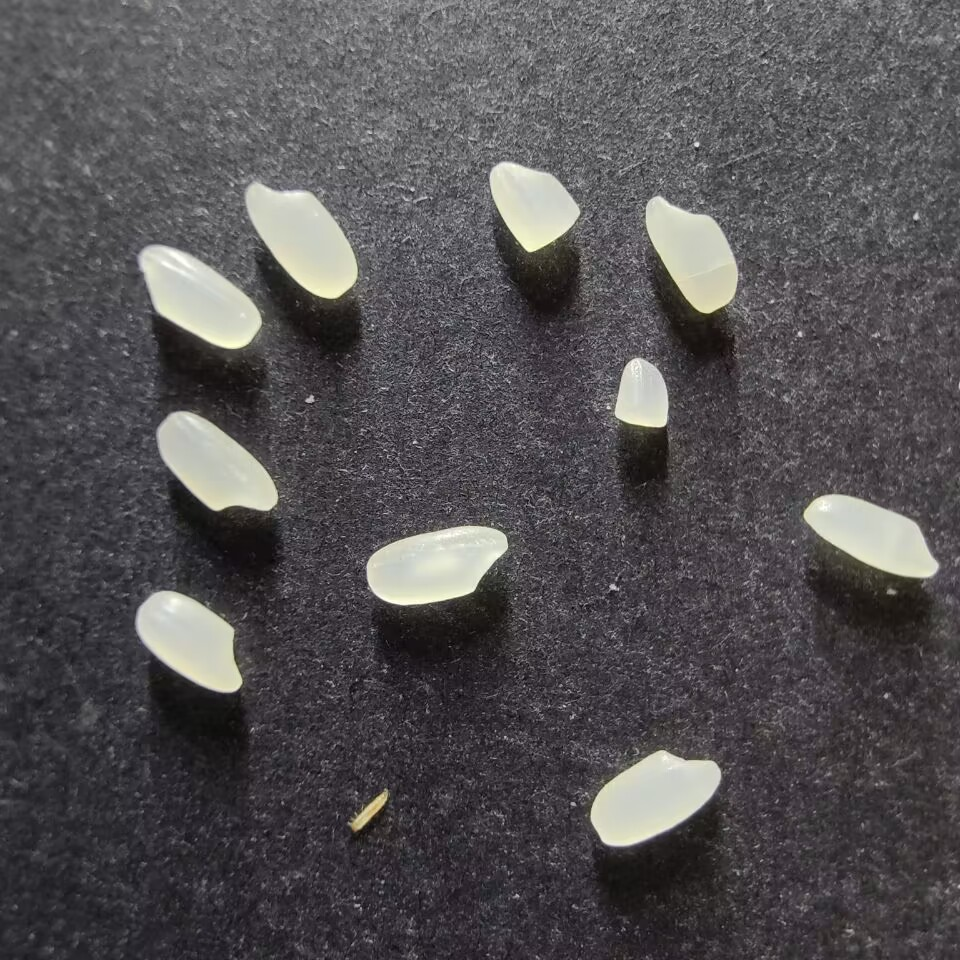broken: (488, 159, 582, 254), (610, 356, 671, 429)
others: (344, 787, 392, 836)
rice: (243, 180, 361, 300), (136, 243, 262, 351), (588, 748, 722, 849), (155, 409, 281, 514), (643, 192, 741, 315), (364, 524, 511, 606), (802, 493, 940, 580), (132, 588, 244, 695)
